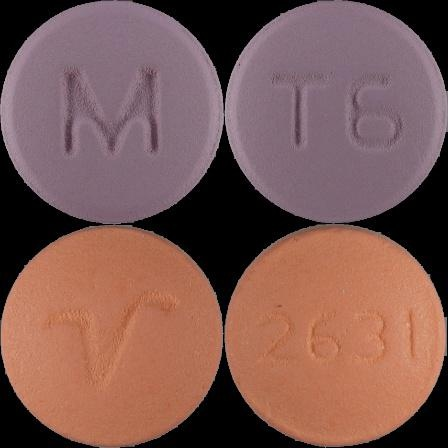61786-688: (0, 0, 224, 224)
